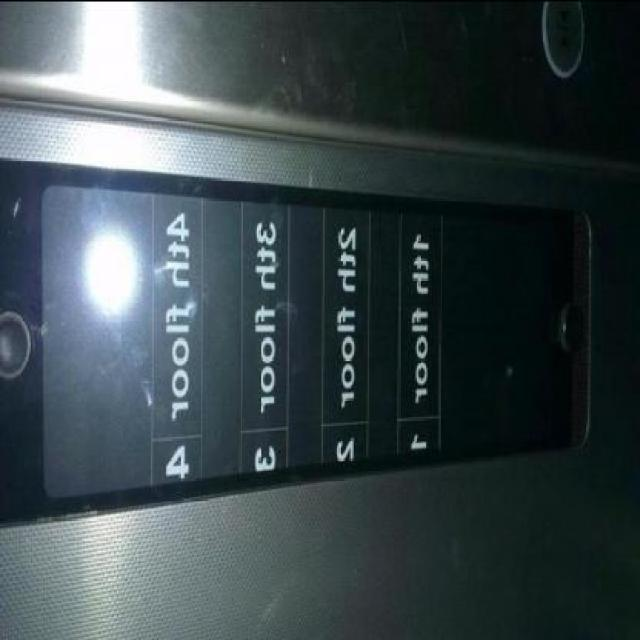phone: (0, 153, 598, 532)
